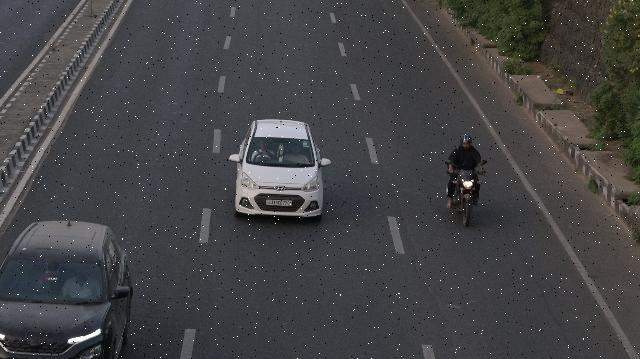With Helmet: (458, 133, 476, 149)
